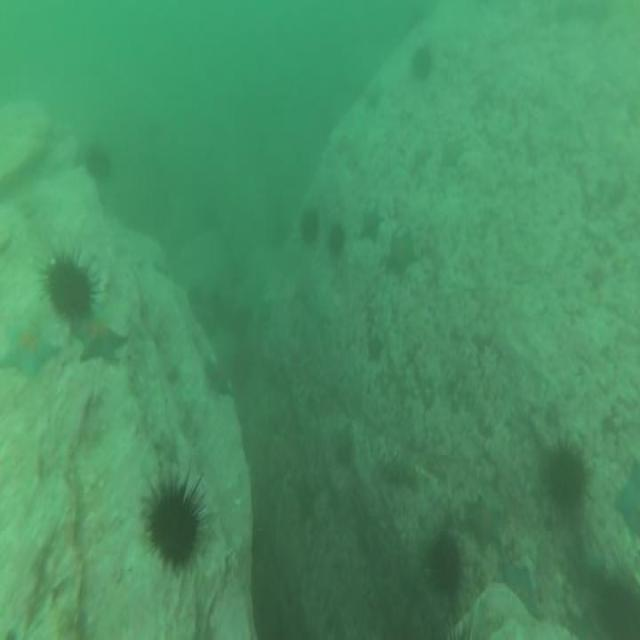echinus: (144, 465, 206, 580), (540, 425, 592, 533), (38, 247, 100, 331), (418, 522, 468, 612), (81, 138, 113, 186), (296, 199, 321, 255), (410, 39, 434, 87), (326, 217, 348, 266)
starfish: (496, 545, 548, 631), (1, 316, 61, 381), (459, 490, 510, 564), (71, 313, 133, 373), (609, 449, 640, 556), (353, 193, 387, 251), (201, 351, 234, 408), (386, 229, 420, 280), (438, 130, 468, 174), (362, 326, 387, 370), (362, 71, 386, 115)
